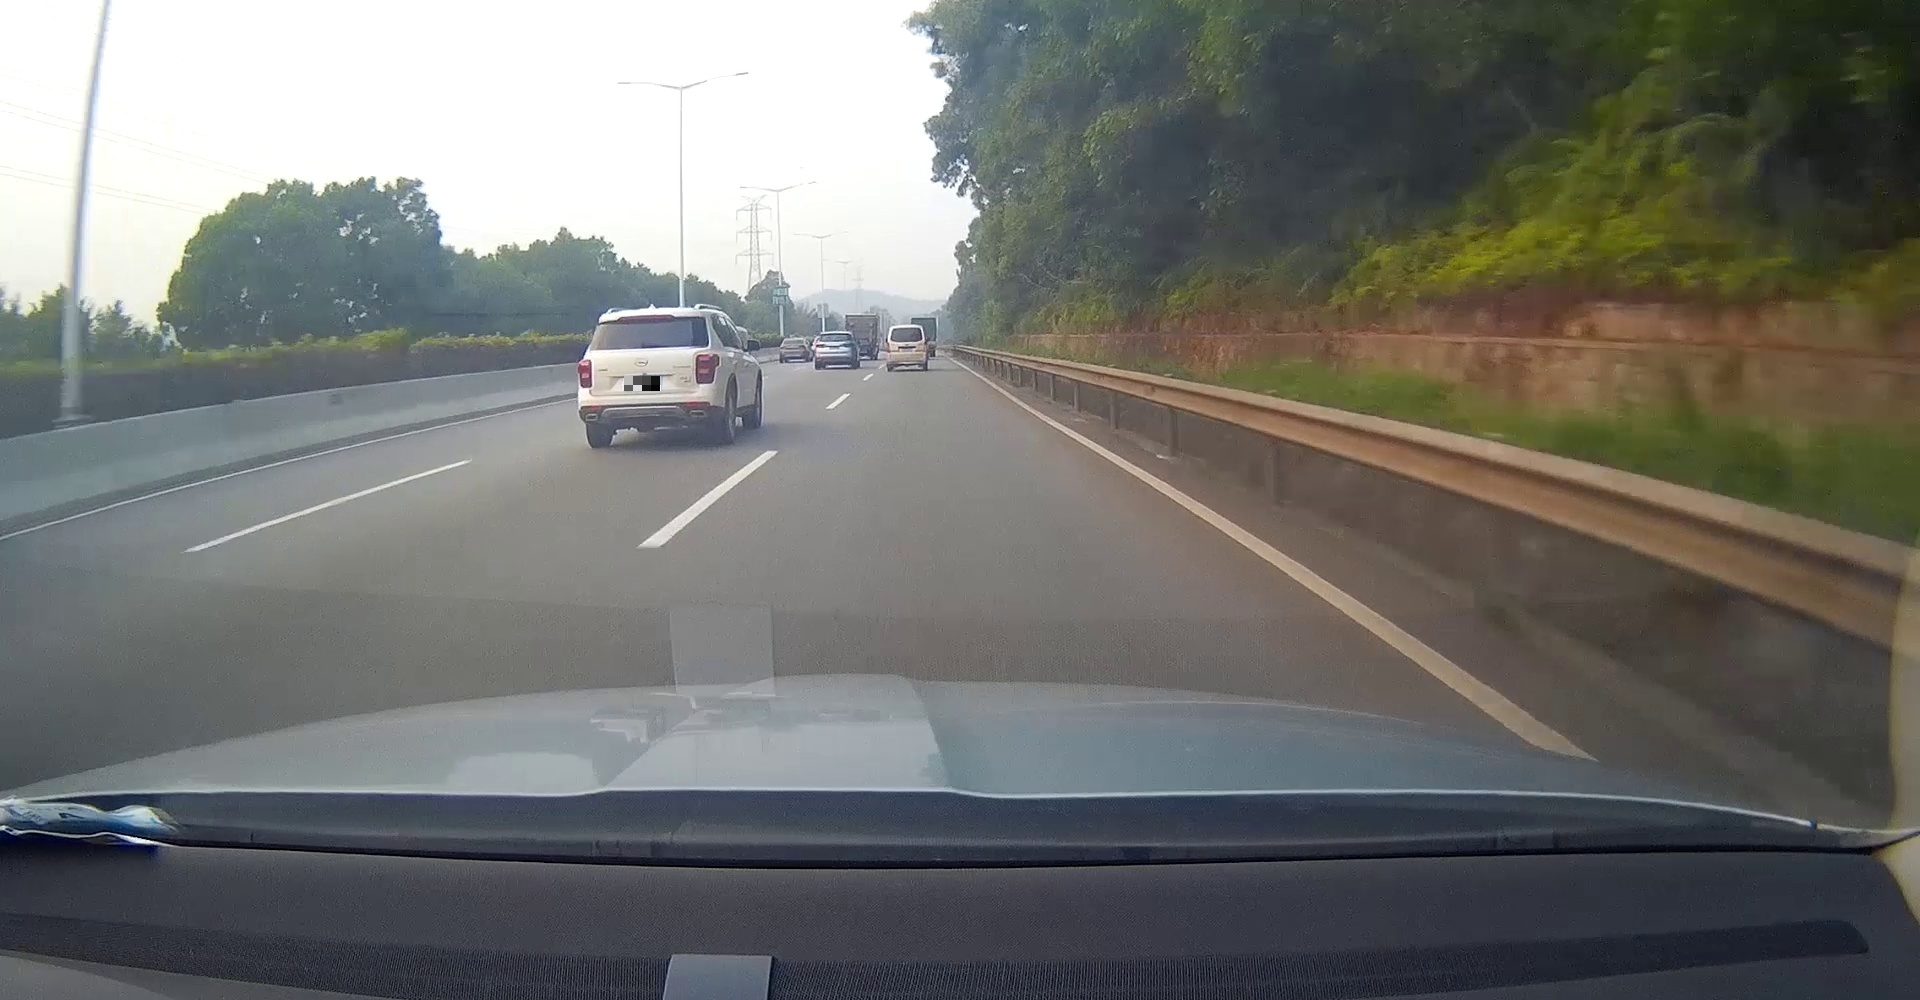L_light: (578, 359, 592, 388)
R_light: (696, 353, 719, 385)
T_light: (617, 315, 676, 322)
day-no: (577, 308, 724, 448)
plate_1: (623, 376, 662, 391)
